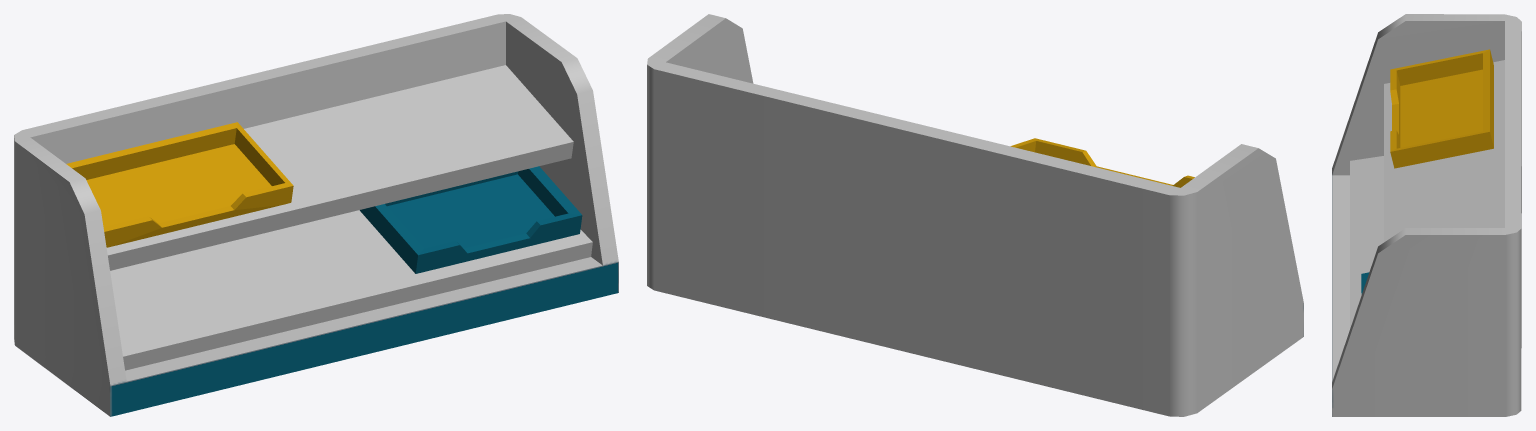
File: ChocolateRackA.fbx
3 views of the same model, side by side, from view 1: azimuth 30°, elevation 25°; view 2: azimuth 150°, elevation 25°; view 3: azimuth 270°, elevation 25° (orthographic). The views are drawn at different scales.
Visible parts, largest first — view 1: ChocolateRackA; view 2: ChocolateRackA; view 3: ChocolateRackA.
Part boxes in pixels (x1=…): ChocolateRackA: x1=14, y1=14, x2=618, y2=416; ChocolateRackA: x1=647, y1=14, x2=1303, y2=416; ChocolateRackA: x1=1332, y1=14, x2=1521, y2=416.
Size of the model in its own units: 139 by 53.41 by 50.42.
